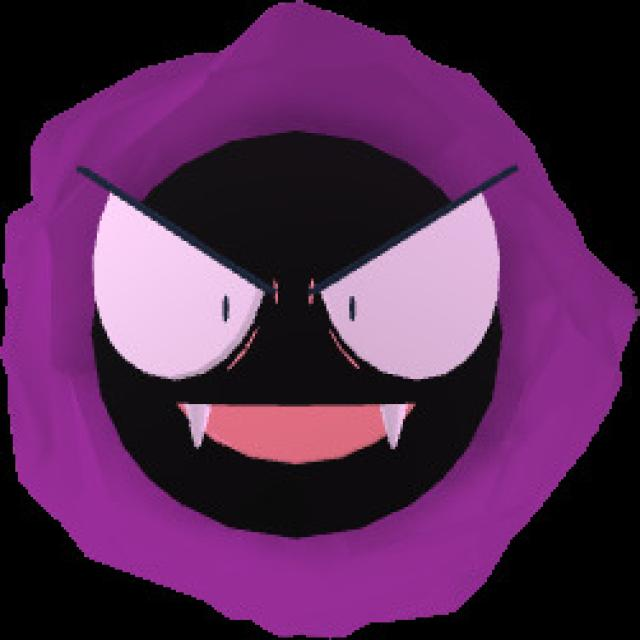Gastly: (0, 2, 633, 640)
